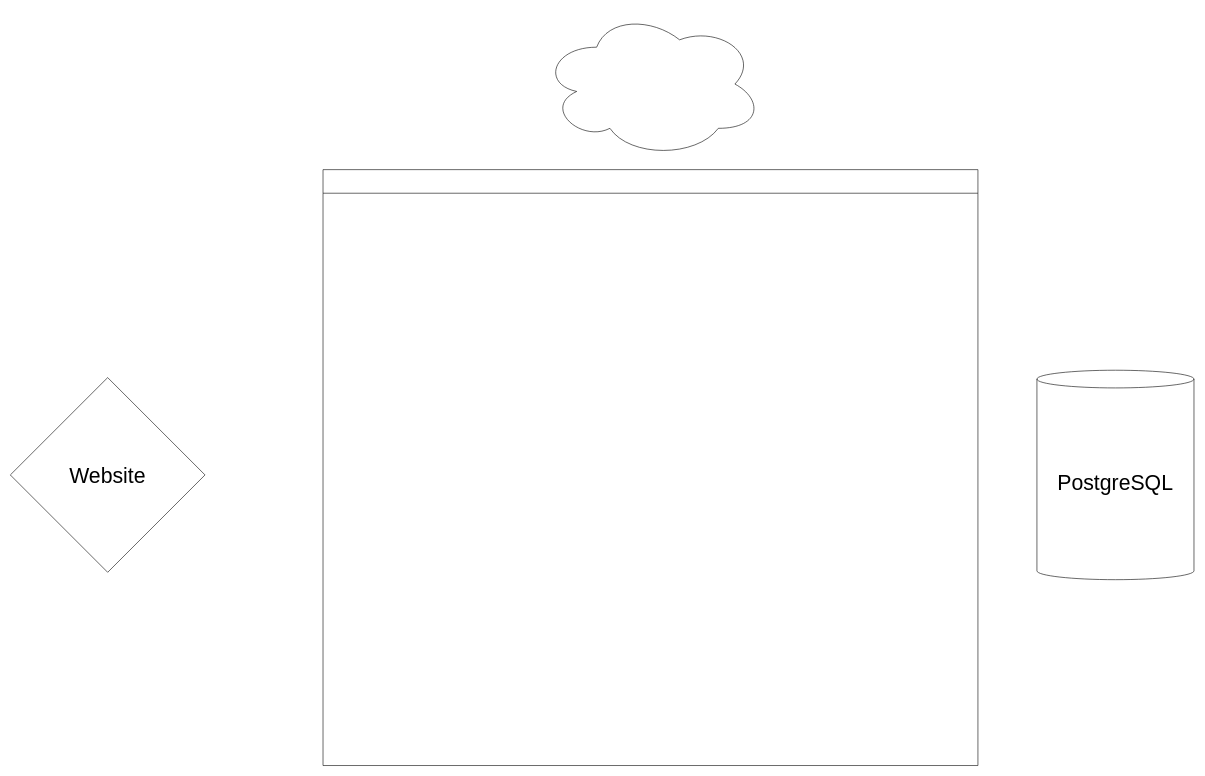
Image size: 1205x776. Some labels were removed from this diagram. Here are the shapes that lost their labels. From the top down, the centre of each, then its label:
point 652,84: Data (VCI, TCBS)
point 650,467: Kafka
